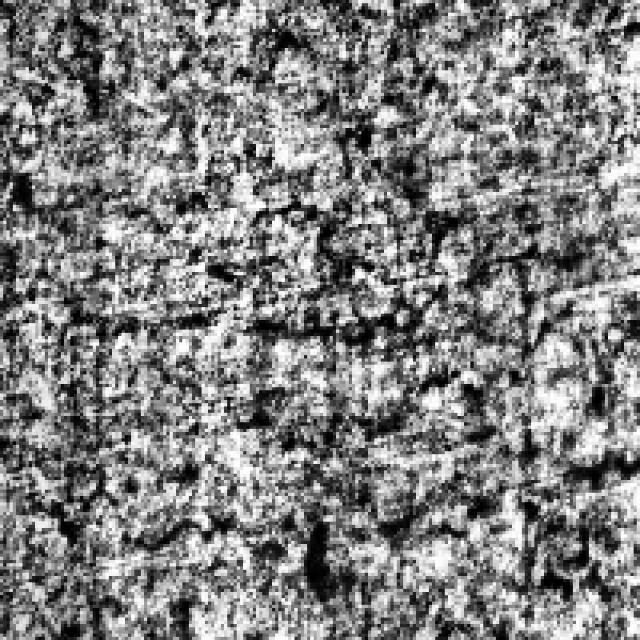Pitted_Surface: (51, 182, 563, 512)
